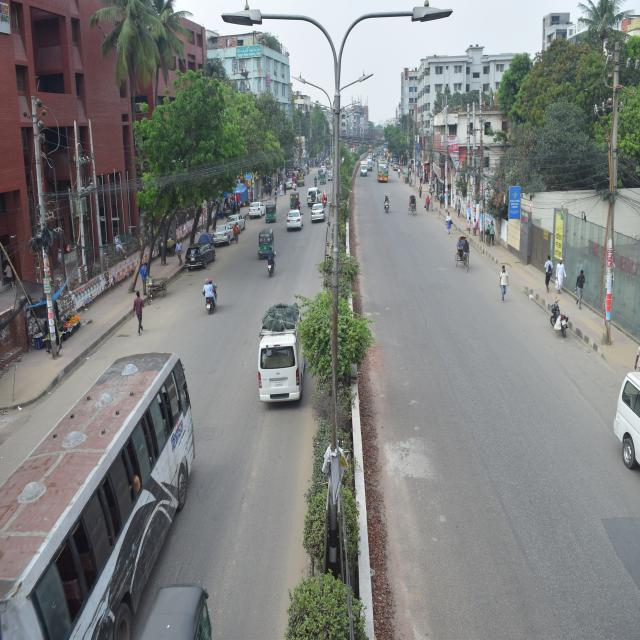bus: (2, 348, 200, 618), (379, 159, 389, 187)
car: (179, 242, 220, 266), (213, 217, 238, 250), (286, 204, 304, 240), (313, 202, 333, 230), (227, 214, 246, 228), (251, 203, 263, 222), (308, 186, 318, 204), (286, 180, 298, 190)
microbus: (243, 284, 300, 407)
motorbike: (202, 271, 216, 309), (268, 246, 279, 274), (383, 196, 396, 216), (314, 175, 319, 189)
pickup-van: (359, 160, 371, 178)
